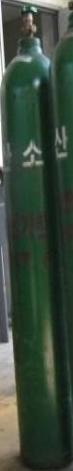cylinder: (0, 1, 73, 471)
